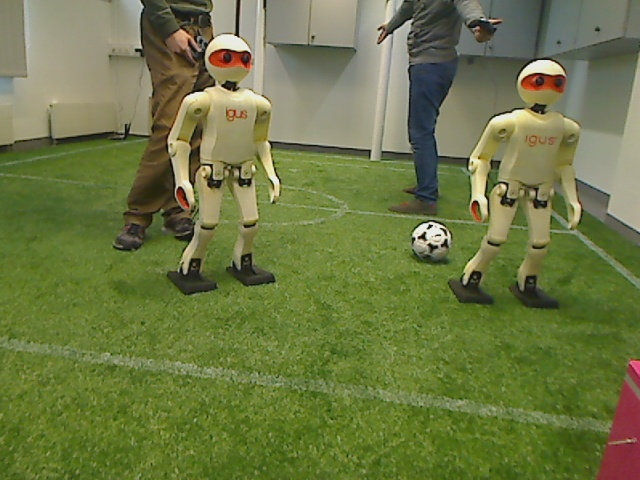ball: (406, 218, 457, 265)
robot: (457, 56, 581, 311), (168, 35, 288, 296)
